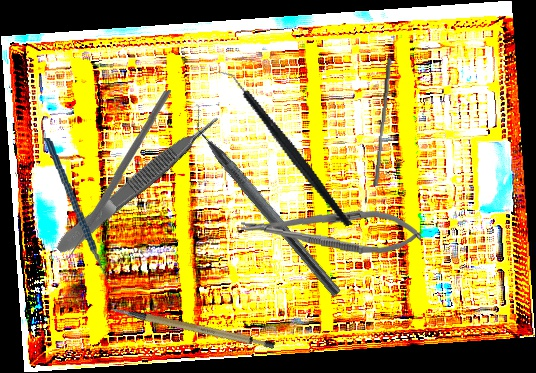Chopper: (178, 101, 355, 299), (214, 46, 353, 251), (48, 90, 174, 261), (43, 133, 121, 290)
Needle Holder: (239, 203, 423, 257)
Pusher: (373, 57, 392, 187)
Scalpel Handle: (109, 281, 277, 371)
Tissue Forceps: (51, 111, 226, 258)
